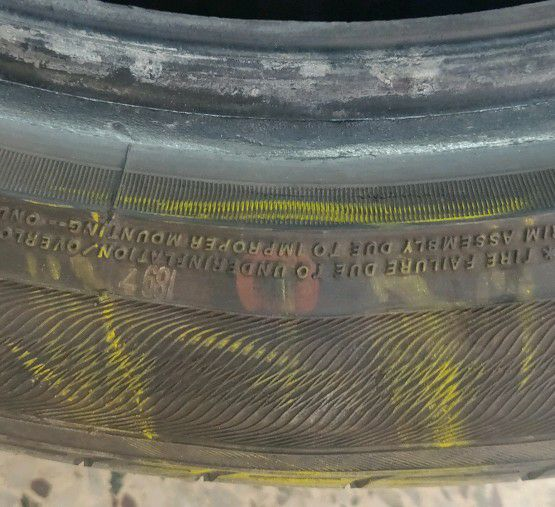CBU: (192, 321, 367, 437)
